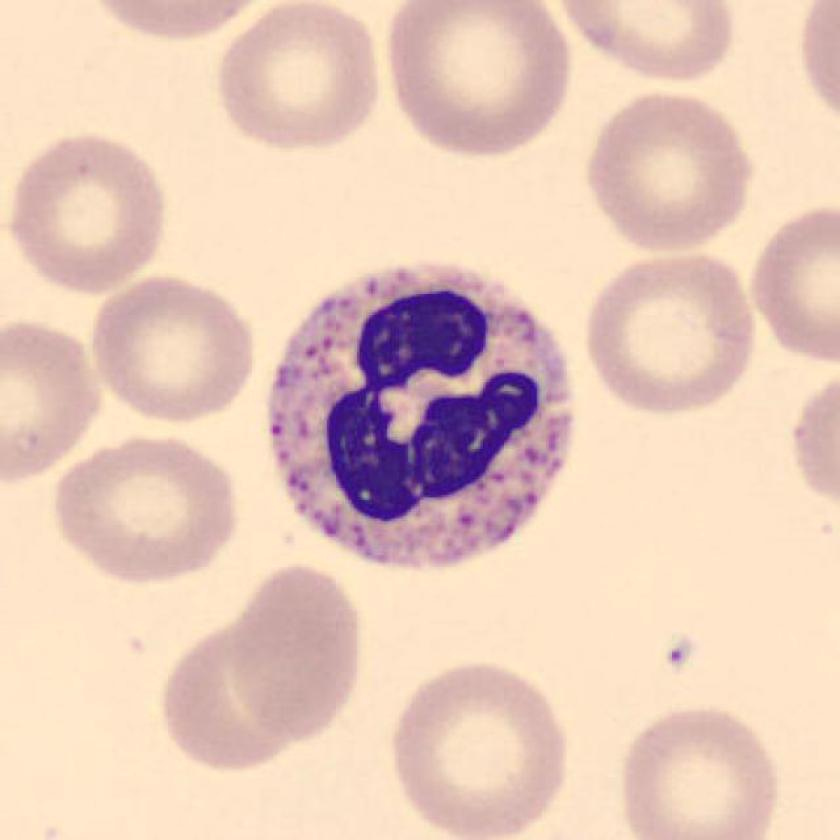neutrophil: (271, 265, 572, 568)
